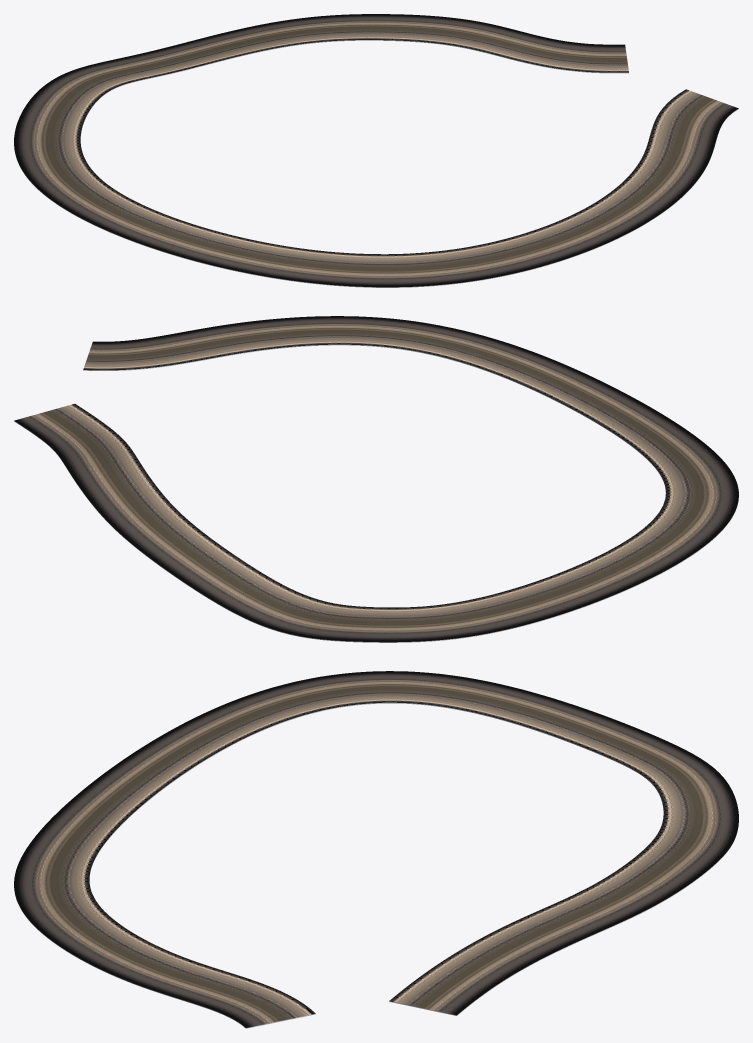
Rendered from path_1.glb.
The picture shows the model from 3 angles, top to bottom: view 1: azimuth 30°, elevation 25°; view 2: azimuth 150°, elevation 25°; view 3: azimuth 270°, elevation 25°; orthographic projection. The views are drawn at different scales.
Visible parts, largest first — view 1: Profile; view 2: Profile; view 3: Profile.
Boxes of the visible parts, <box> form: Profile: <box>14,14,738,287</box>; Profile: <box>14,316,738,642</box>; Profile: <box>14,671,738,1028</box>.
Size of the model in its own units: 21.51 by 1.04 by 19.16.
2 materials, 1 textured.
